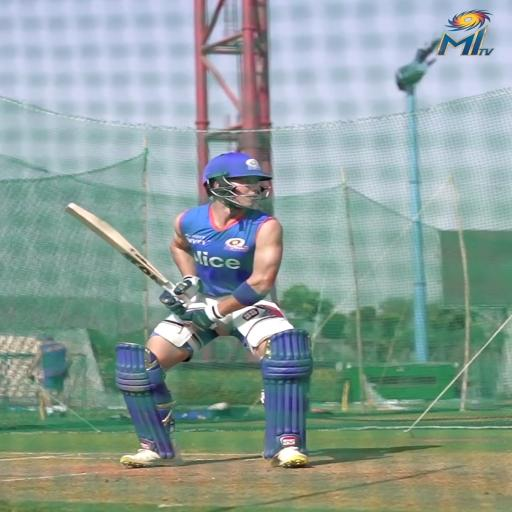Cricket bat: (65, 203, 174, 291)
